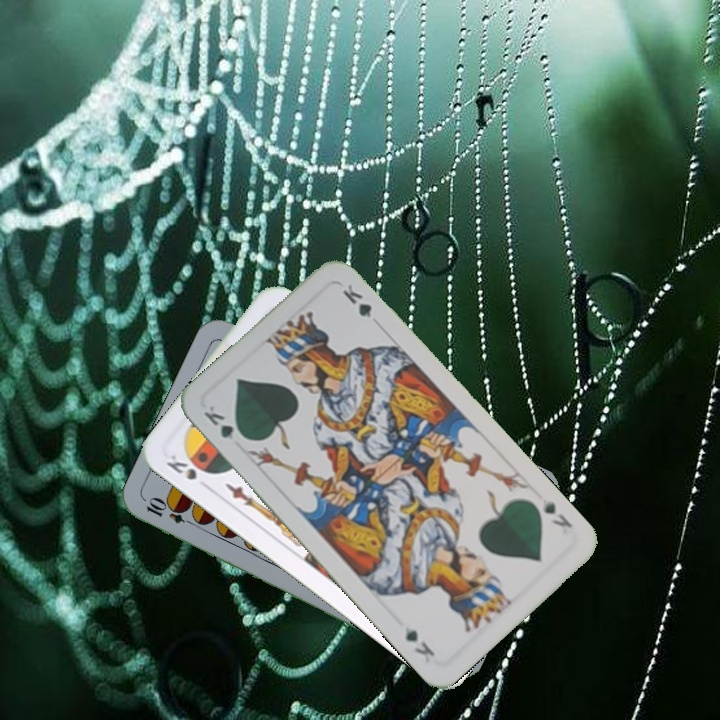E10: (142, 495, 200, 529)
GK: (199, 401, 250, 443), (538, 494, 575, 531)
SK: (162, 450, 213, 493)
